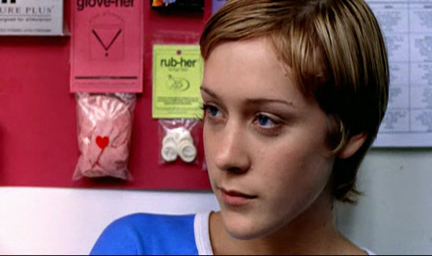cu: (1, 1, 432, 256)
face: (200, 52, 321, 239)
person: (89, 1, 392, 254)
